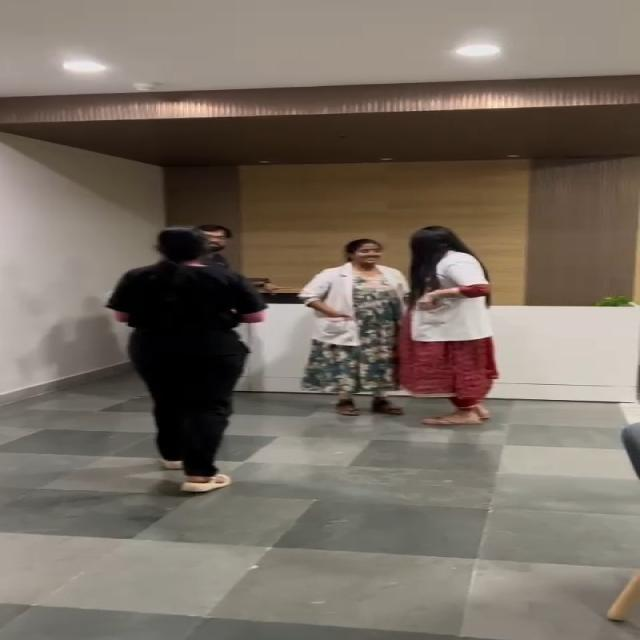floor: (16, 492, 640, 639), (238, 404, 607, 504), (19, 404, 127, 504)
moving_object: (315, 234, 520, 425), (131, 237, 264, 494)
wall: (155, 95, 640, 226), (0, 138, 125, 374)
